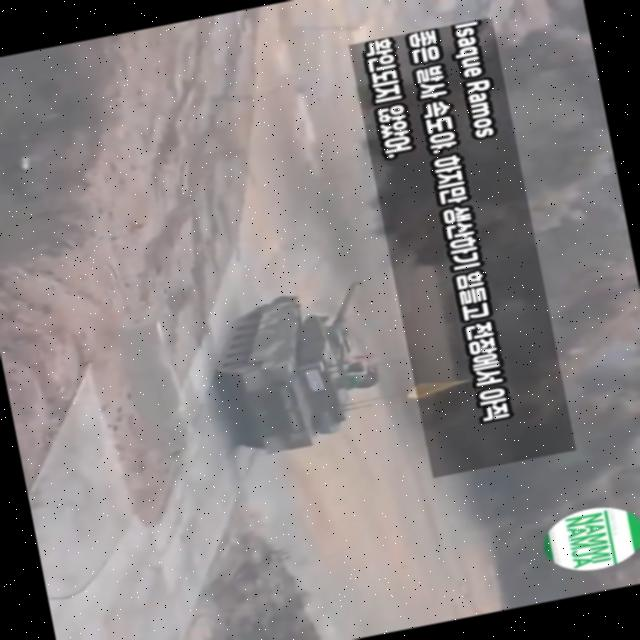korea tank: (202, 276, 396, 462)
